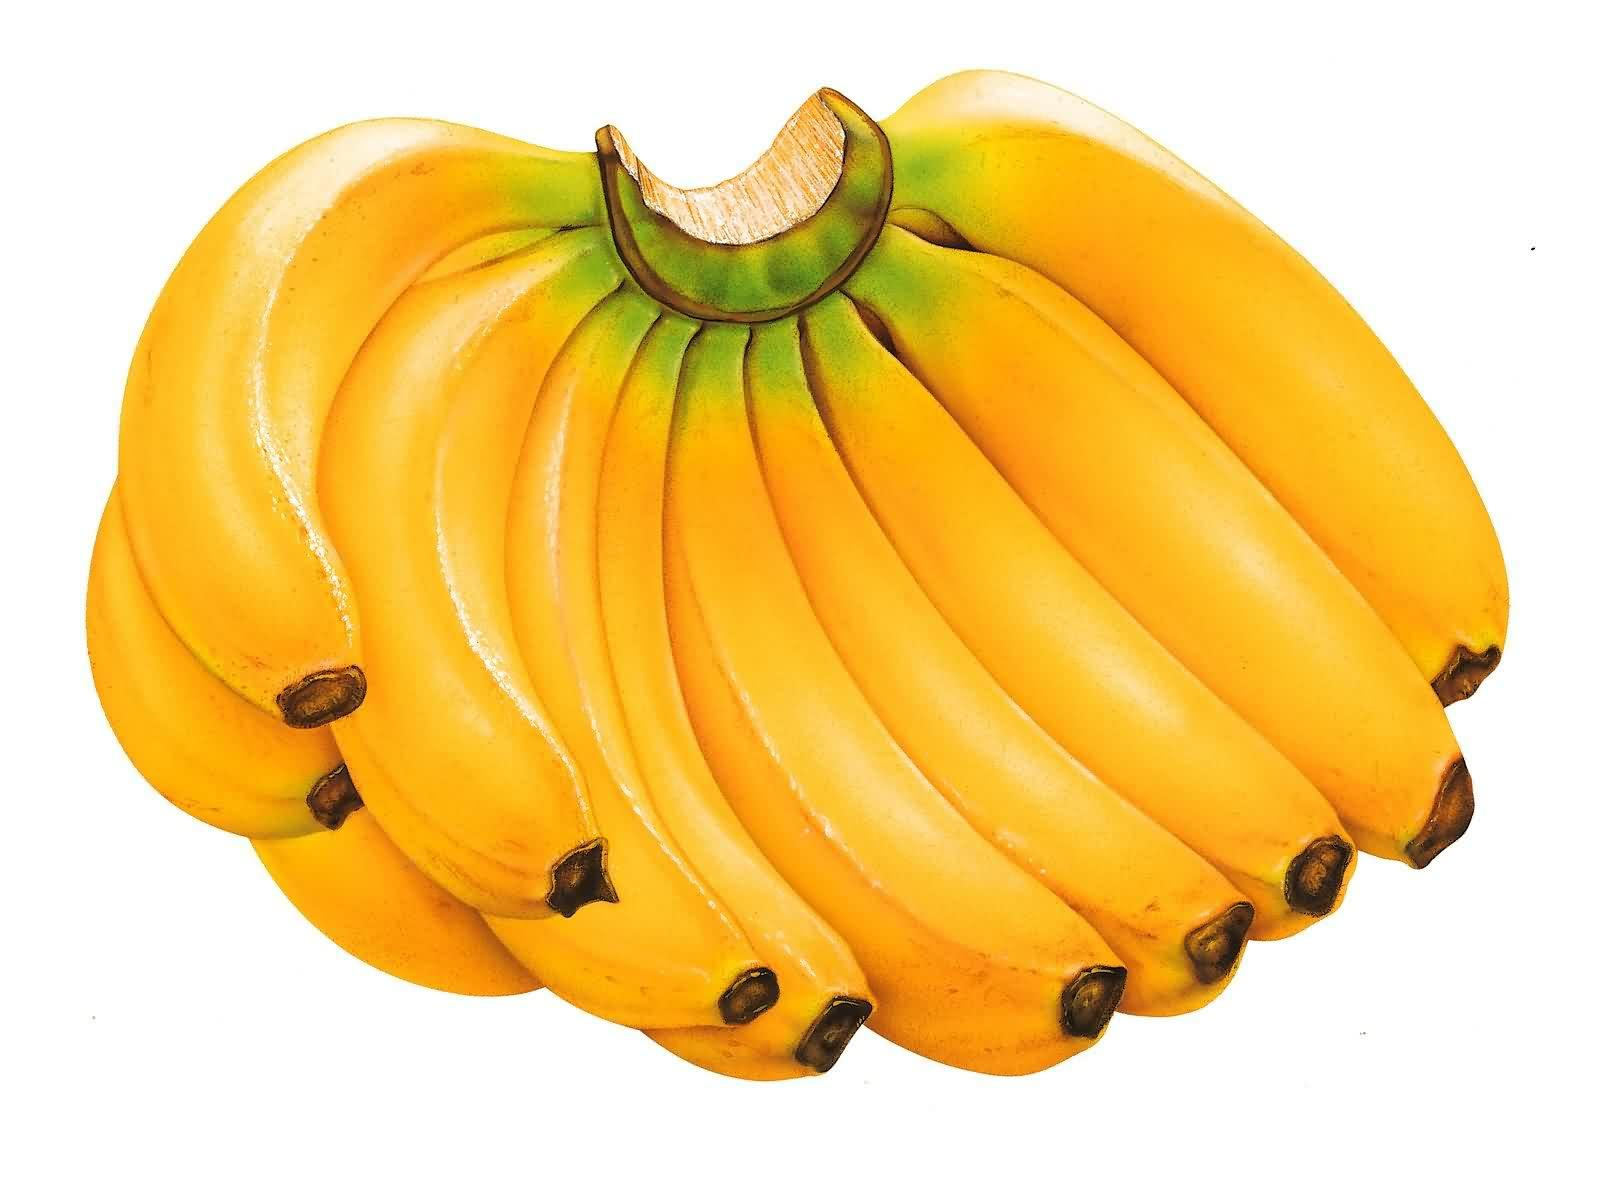banana: (55, 100, 1524, 1124)
